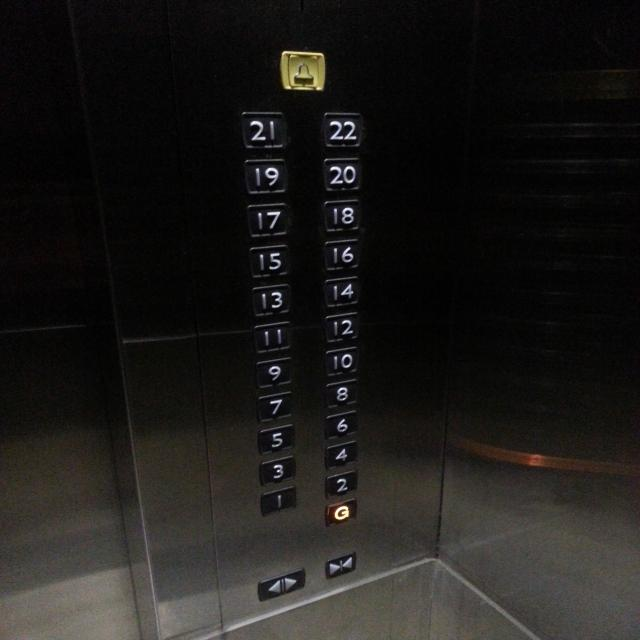1: (260, 486, 298, 515)
10: (323, 346, 361, 378)
11: (252, 320, 293, 352)
12: (324, 311, 361, 342)
13: (251, 283, 292, 316)
14: (322, 275, 363, 309)
15: (247, 243, 293, 280)
16: (322, 238, 363, 272)
17: (246, 203, 290, 238)
18: (323, 198, 364, 233)
19: (242, 157, 290, 195)
2: (323, 469, 362, 498)
20: (321, 156, 366, 192)
21: (239, 110, 289, 151)
22: (320, 110, 364, 150)
3: (259, 456, 297, 484)
4: (323, 440, 360, 469)
5: (258, 423, 296, 455)
6: (323, 409, 359, 439)
7: (256, 391, 295, 423)
8: (324, 378, 360, 408)
9: (255, 356, 296, 388)
G: (324, 497, 358, 525)
alarm: (279, 48, 327, 94)
close: (326, 552, 358, 578)
open: (258, 568, 304, 602)
